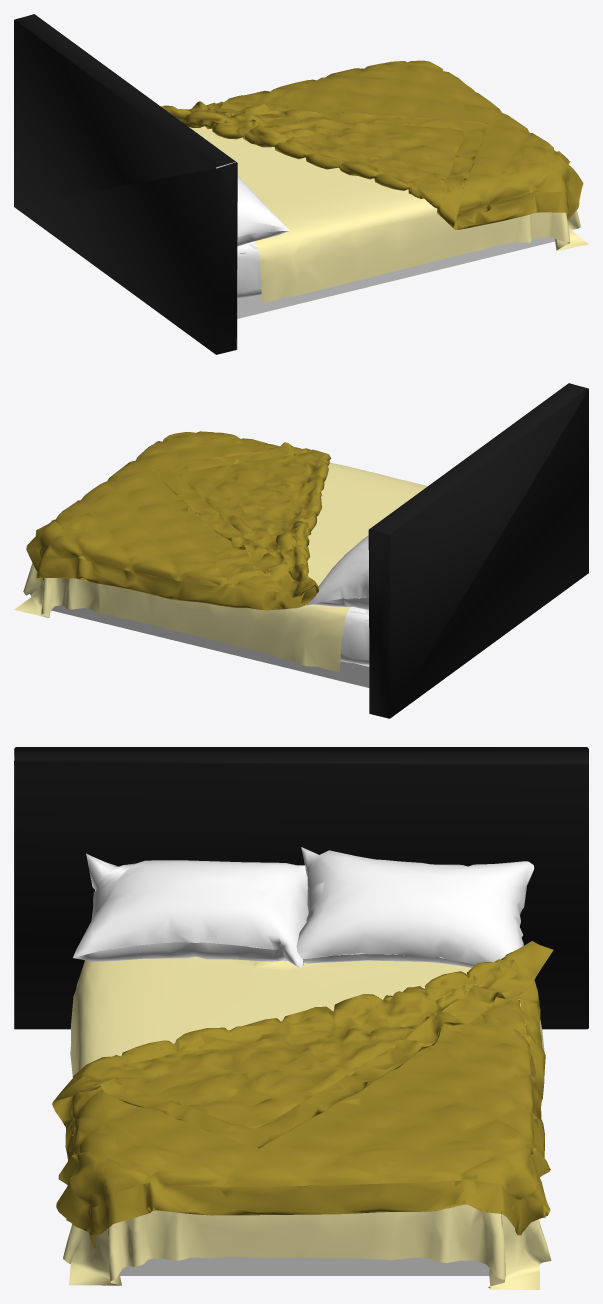
The model's file is MessyBed.glb.
3 renders of one model, top to bottom at view 1: azimuth 30°, elevation 25°; view 2: azimuth 150°, elevation 25°; view 3: azimuth 270°, elevation 25°, orthographic. The views are drawn at different scales.
Parts seen in each view (by area): view 1: Plane.001; view 2: Plane.001; view 3: Plane.001.
Part boxes in pixels (<box>): Plane.001: <box>14,14,588,354</box>; Plane.001: <box>14,383,588,718</box>; Plane.001: <box>14,747,588,1289</box>.
Size of the model in its own units: 2.16 by 0.9643 by 1.88.
